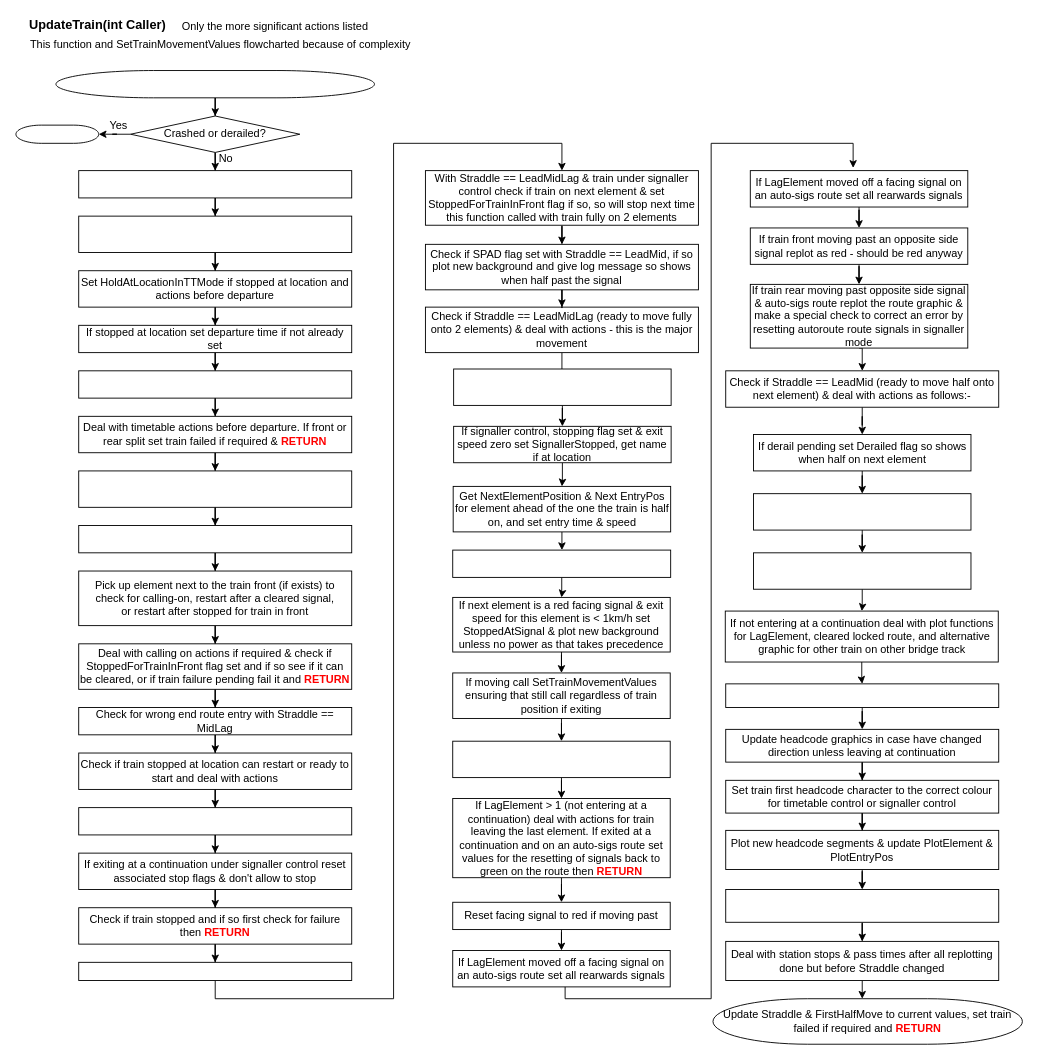
Some shapes in this 1038 by 1060 pixel diagram are drawn without their labels. Here are the shapes that lost their labels. From the top down, the box of each, then its label:
(55, 70, 374, 98): Check for random failure if required & if so set FailurePending
(15, 124, 99, 143): Plot & RETURN
(78, 170, 352, 198): Set train background colour for signal, train in front or normal
(78, 215, 352, 253): Check for crash into buffers or level crossing & set flags accordingly
(78, 370, 352, 398): Update OpTimeToAct for Actions due panel if panel visible
(453, 368, 671, 405): Check if SPAD flag set & exit speed zero, if so set StoppedAfterSPAD
(78, 470, 352, 507): Deal with stopped at buffers, set train failed if required & RETURN
(753, 493, 971, 530): Update Straddle values for the next element move
(78, 525, 352, 553): If not stopped at buffers reset associated flags
(452, 549, 671, 577): Set StoppedWithoutPower if appropriate
(753, 552, 971, 589): If stopped & not on continuation exit check if a failure required & RETURN
(725, 683, 999, 708): Update offset & background graphic array values
(452, 740, 670, 778): Remove route elements for all element positions unless on an auto-signals route.
(78, 807, 352, 835): Check if time for the next half move and return if not
(725, 889, 999, 922): Check if crashed into another train and if so set both train as crashed
(78, 961, 352, 981): Here when ready for next half move
